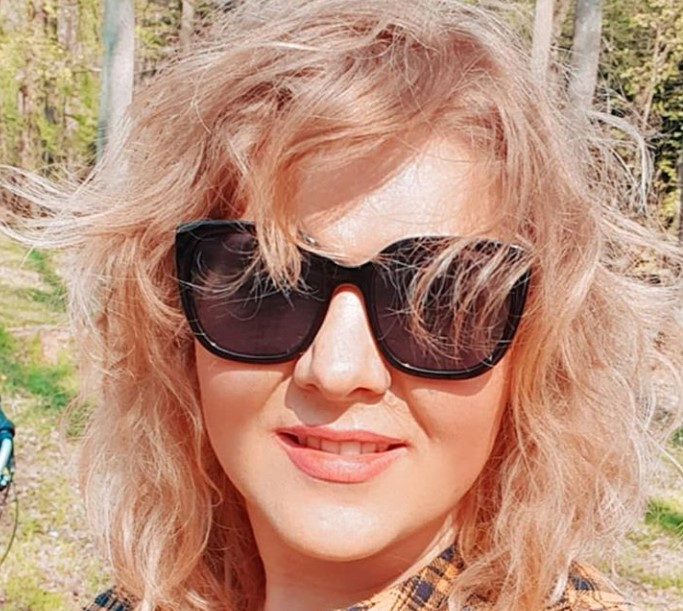face_no_mask: (168, 63, 547, 571)
